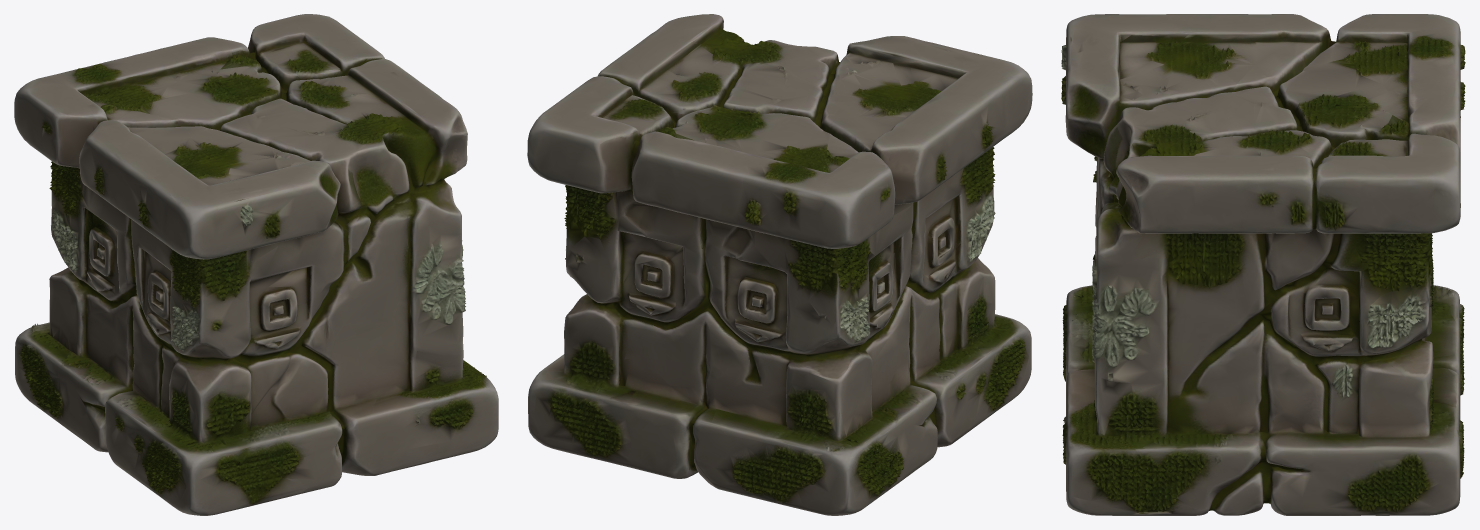
File: crumbling-stone-pedestal-altar-optimized.glb
The picture shows the model from 3 angles, left to right: view 1: azimuth 30°, elevation 25°; view 2: azimuth 150°, elevation 25°; view 3: azimuth 270°, elevation 25°; orthographic projection. The views are drawn at different scales.
Parts seen in each view (by area): view 1: tripo_node_aa1e4246-f4bf-4940-a79f-5119c9b09879; view 2: tripo_node_aa1e4246-f4bf-4940-a79f-5119c9b09879; view 3: tripo_node_aa1e4246-f4bf-4940-a79f-5119c9b09879.
Part boxes in pixels (x1=…): tripo_node_aa1e4246-f4bf-4940-a79f-5119c9b09879: x1=14, y1=14, x2=498, y2=515; tripo_node_aa1e4246-f4bf-4940-a79f-5119c9b09879: x1=527, y1=14, x2=1032, y2=515; tripo_node_aa1e4246-f4bf-4940-a79f-5119c9b09879: x1=1061, y1=14, x2=1465, y2=515.
Size of the model in its own units: 0.9995 by 0.9354 by 0.9993.
Materials: 1 (1 with a texture image).
